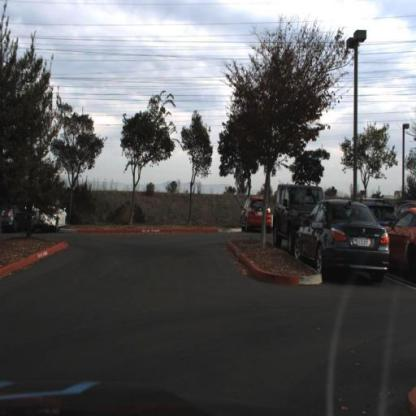car: (296, 197, 393, 282), (273, 181, 325, 260), (379, 204, 416, 287), (272, 186, 300, 248), (240, 195, 274, 235), (34, 203, 66, 231)
